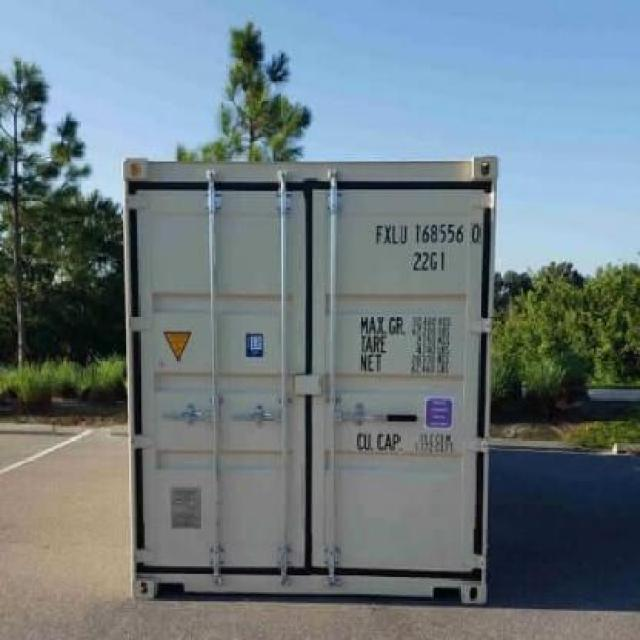ISO: (411, 250, 448, 272)
container_number: (368, 222, 482, 246)
